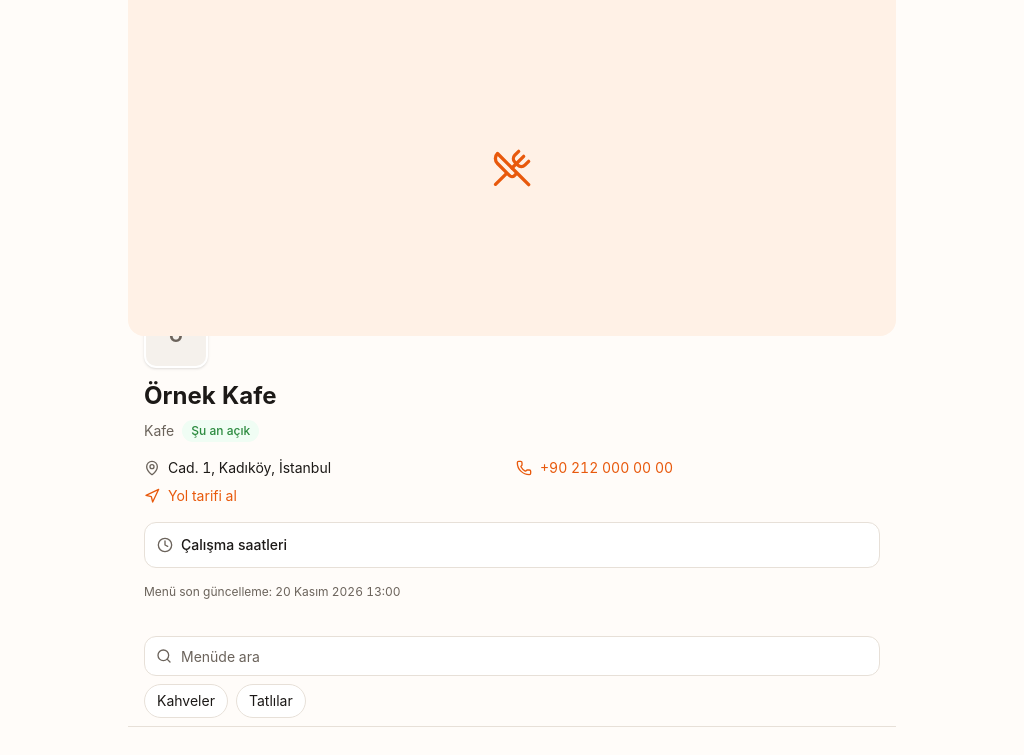
Test: herkese açık menü görünümü › menü içinde arama yapar ve boş sonucu bildirir
Type "cheese" into the search field labelled "Menüde ara".
click(512, 656); type("cheese")  # box [144,636,880,676]
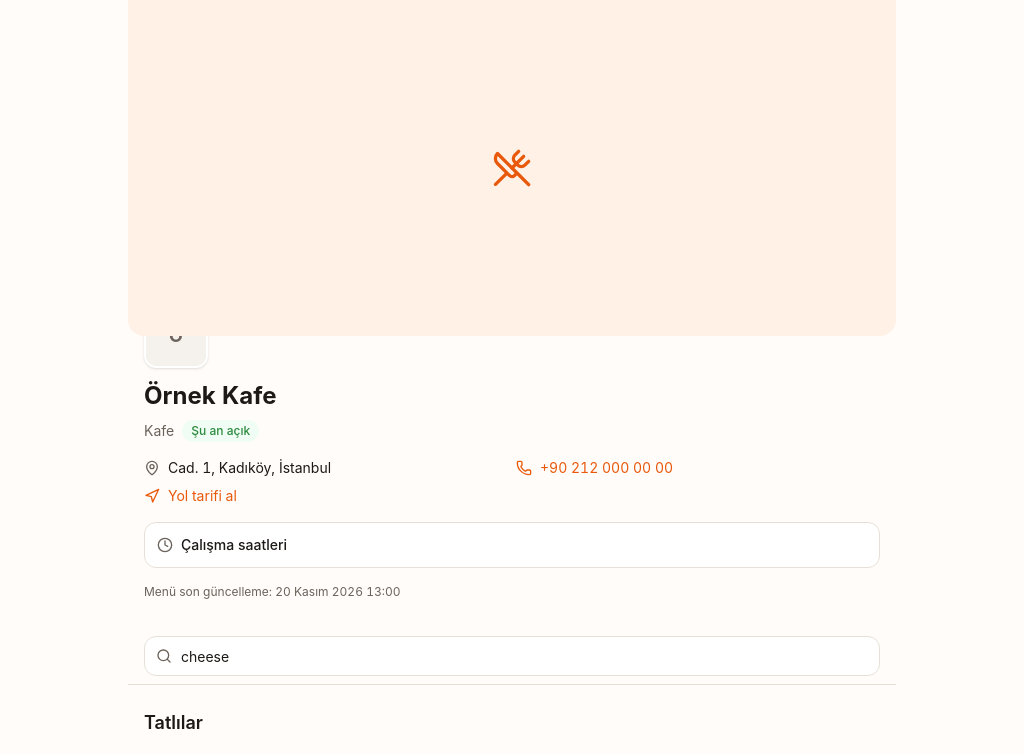
Replace the text in the search field named "Menüde ara" with "pizza" at (512, 656), box [144,636,880,676]
(page scrolled)
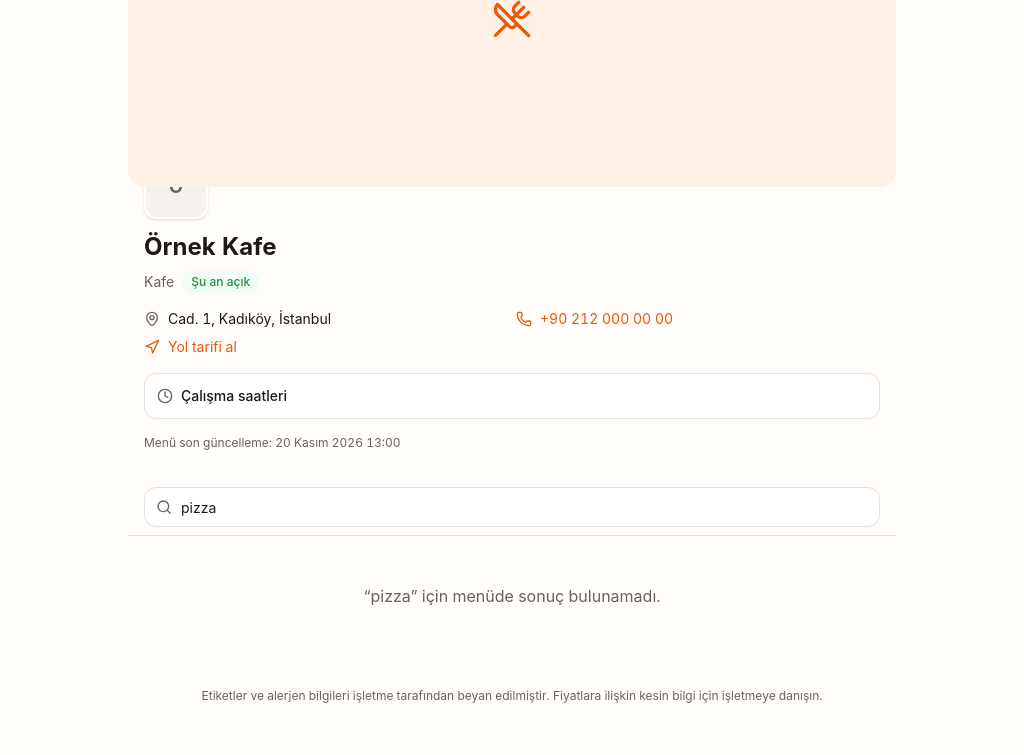
Check: the text "“pizza” için menüde sonuç bulunamadı." is shown, box [363,586,660,606]
